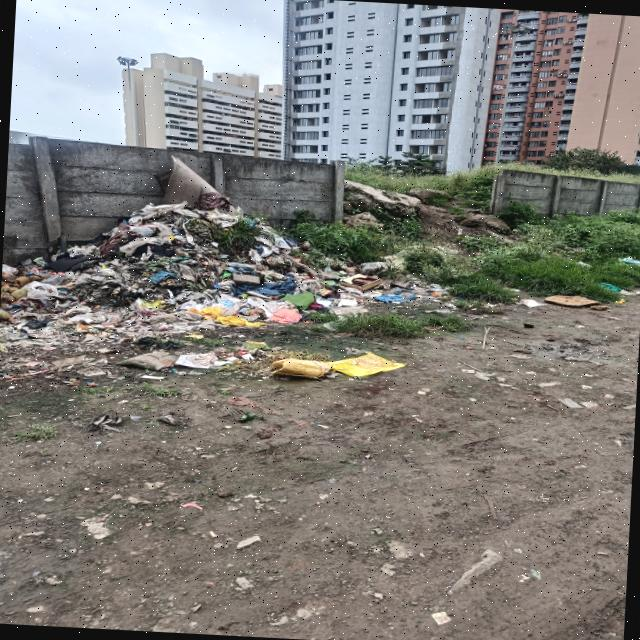garbage: (108, 199, 290, 369), (0, 236, 113, 375), (288, 245, 442, 330)
